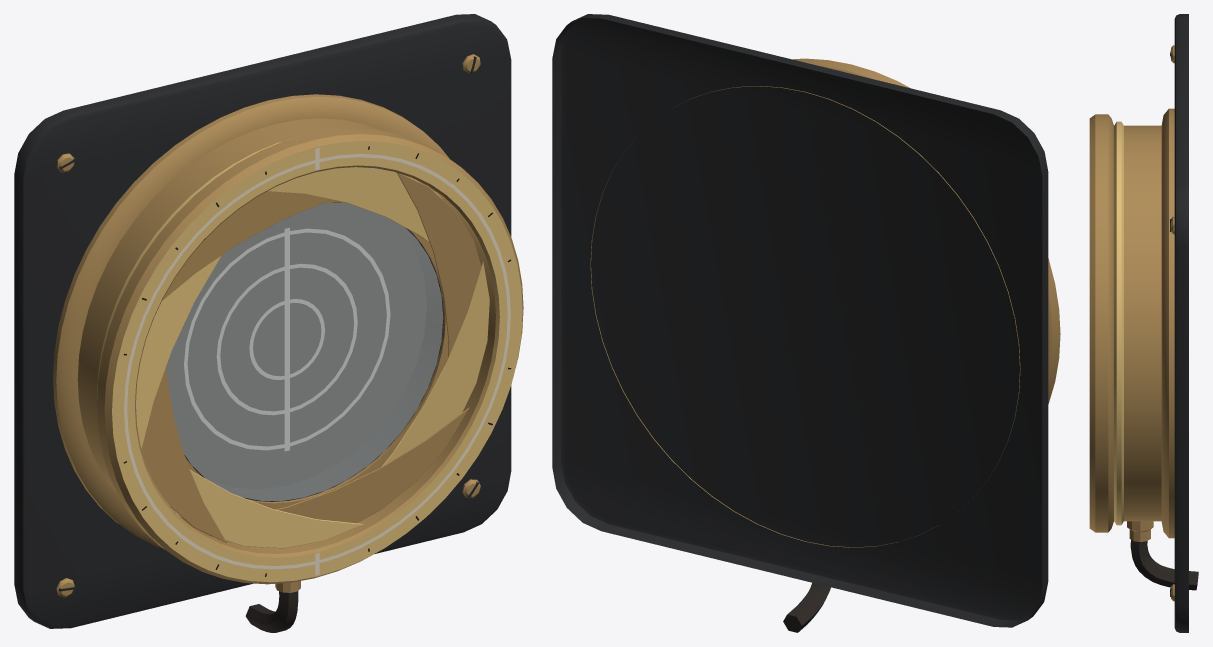
File: light_sensor.glb
3 renders of one model, left to right at view 1: azimuth 30°, elevation 25°; view 2: azimuth 150°, elevation 25°; view 3: azimuth 270°, elevation 25°, orthographic. The views are drawn at different scales.
Parts seen in each view (by area): view 1: sensor_body, sensor_eye; view 2: sensor_body; view 3: sensor_body.
Part boxes in pixels (x1,y1,x2,y2): sensor_body: (14,14,523,632); sensor_eye: (166,203,443,500); sensor_body: (552,14,1060,632); sensor_body: (1089,14,1198,632).
Size of the model in its own units: 0.3 by 0.329 by 0.0667.
